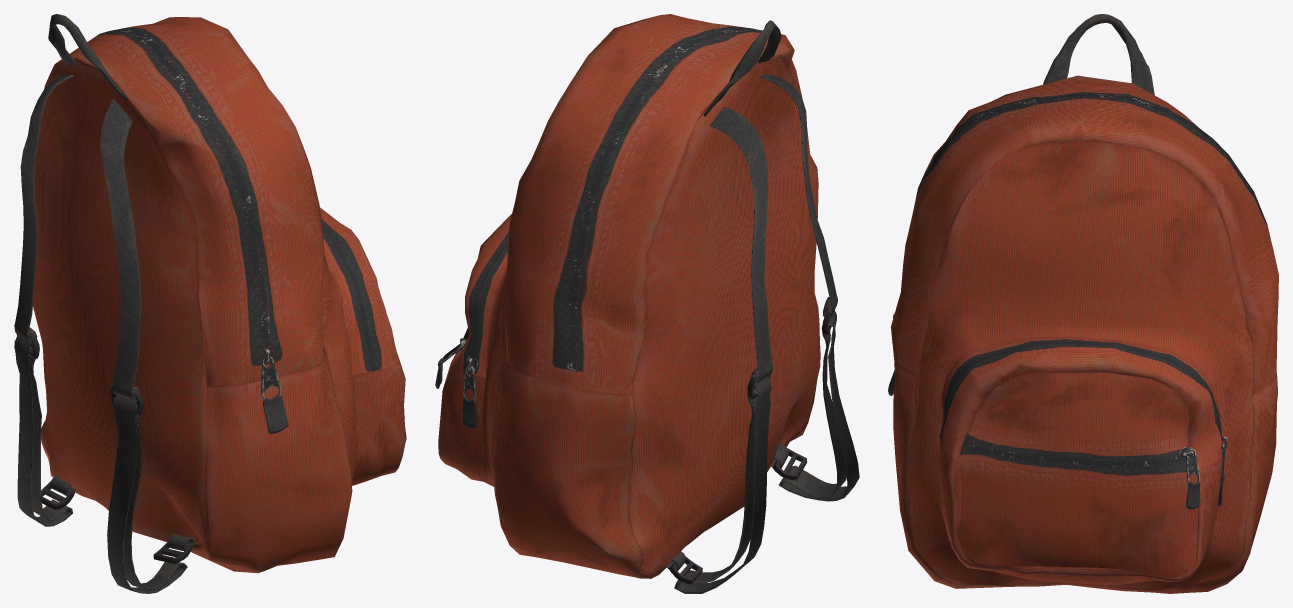
File: SM_Bookbag_01a_v2.glb
The picture shows the model from 3 angles, left to right: view 1: azimuth 30°, elevation 25°; view 2: azimuth 150°, elevation 25°; view 3: azimuth 270°, elevation 25°; orthographic projection. The views are drawn at different scales.
Parts seen in each view (by area): view 1: SM_Bookbag_01a; view 2: SM_Bookbag_01a; view 3: SM_Bookbag_01a.
Boxes of the visible parts, box(x1,y1,x2,y2) form: SM_Bookbag_01a: box(14, 14, 406, 593); SM_Bookbag_01a: box(435, 14, 859, 593); SM_Bookbag_01a: box(888, 14, 1278, 593).
Size of the model in its own units: 0.2959 by 0.5046 by 0.354.
Materials: 1 (1 with a texture image).
